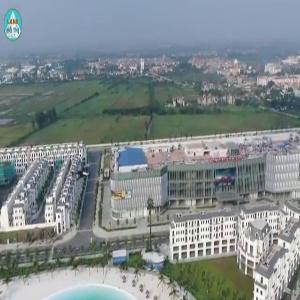drone: (59, 154, 105, 200)
